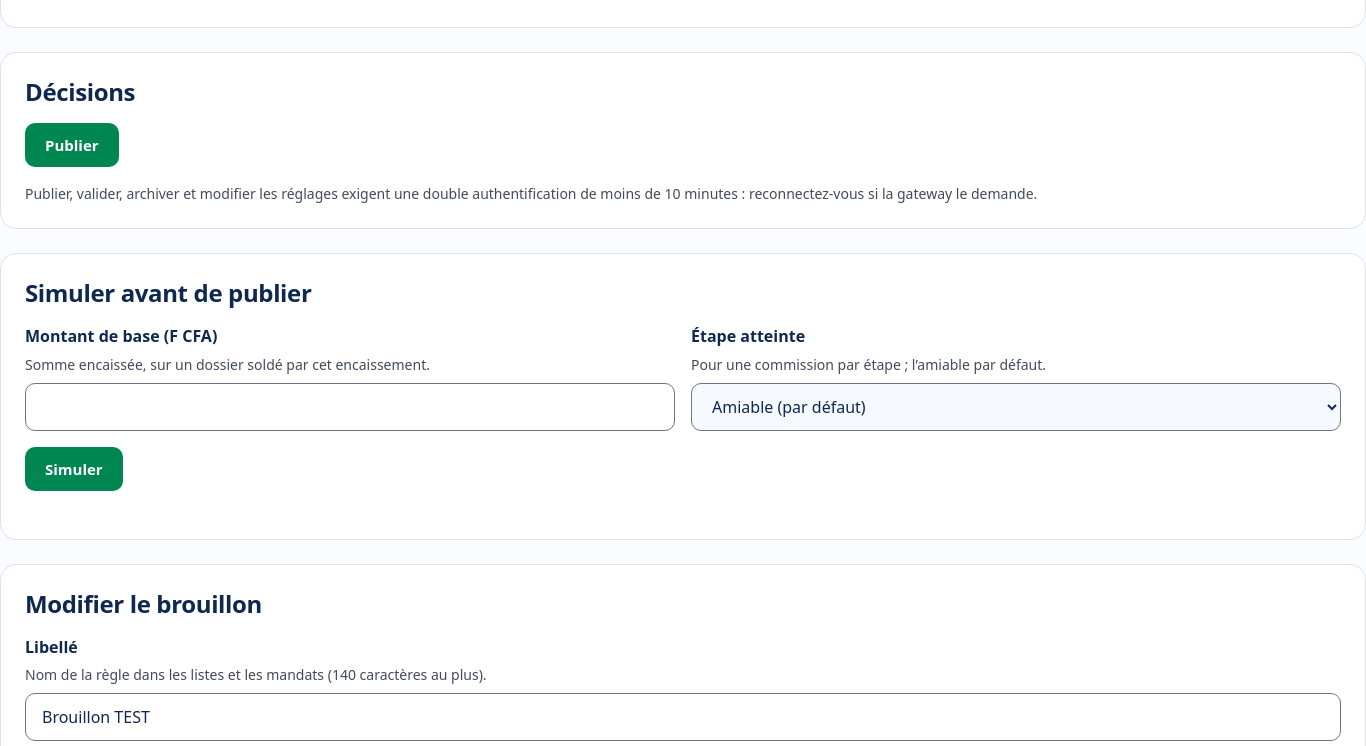
Test: cycle d’une règle › brouillon : simulation avant publication, puis publication confirmée
(page scrolled)
In the field labelled "Montant de base (F CFA)": (350, 406) x1=25 y1=382 x2=675 y2=430, type "1100000"
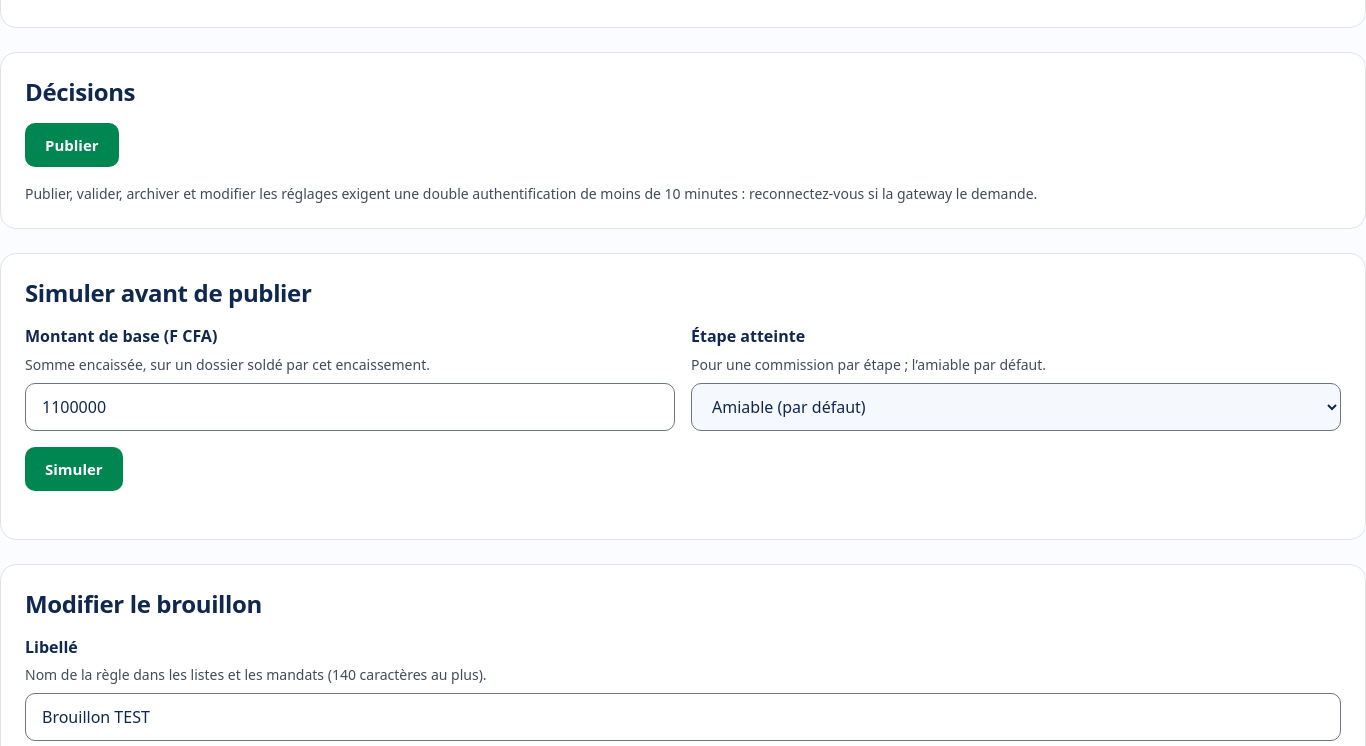
Select "Mise en demeure" in the dropdown labelled "Étape atteinte": (1016, 406) x1=691 y1=382 x2=1341 y2=430
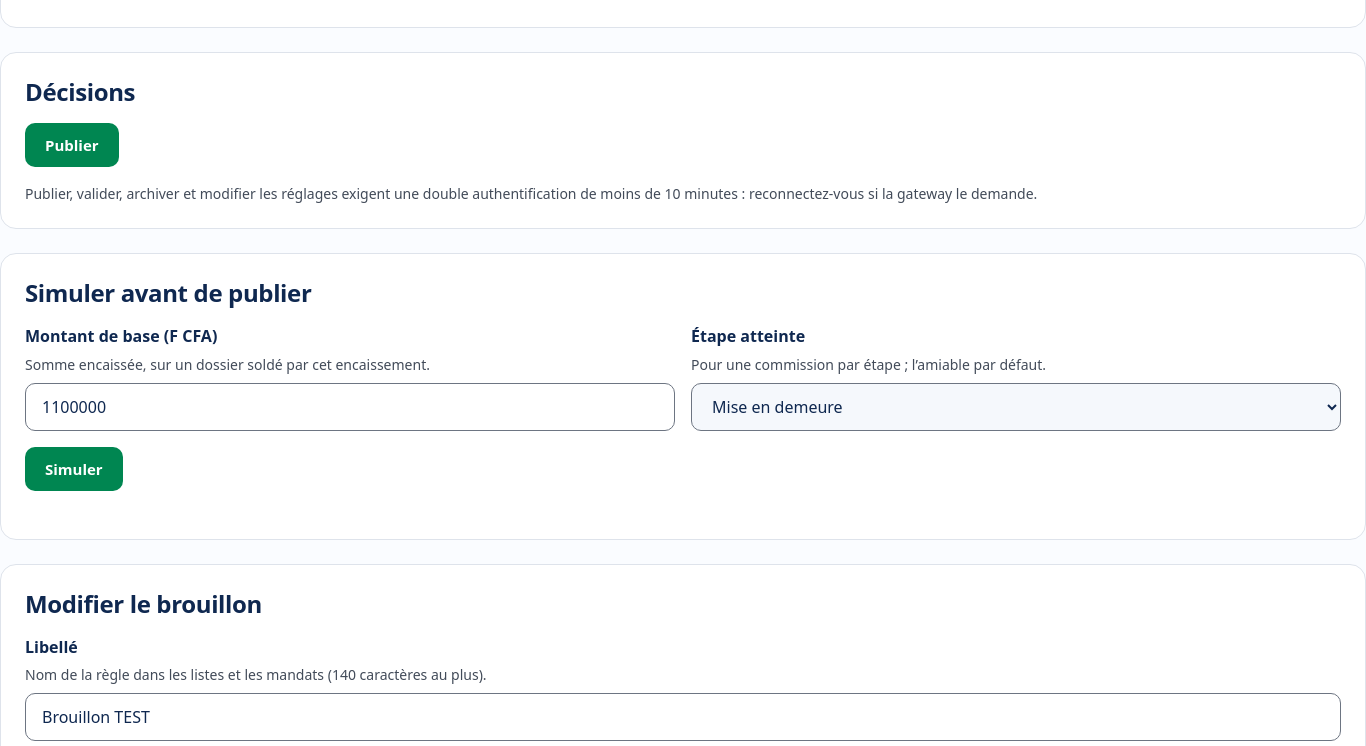
Click the button "Simuler": (74, 468) x1=25 y1=446 x2=123 y2=490
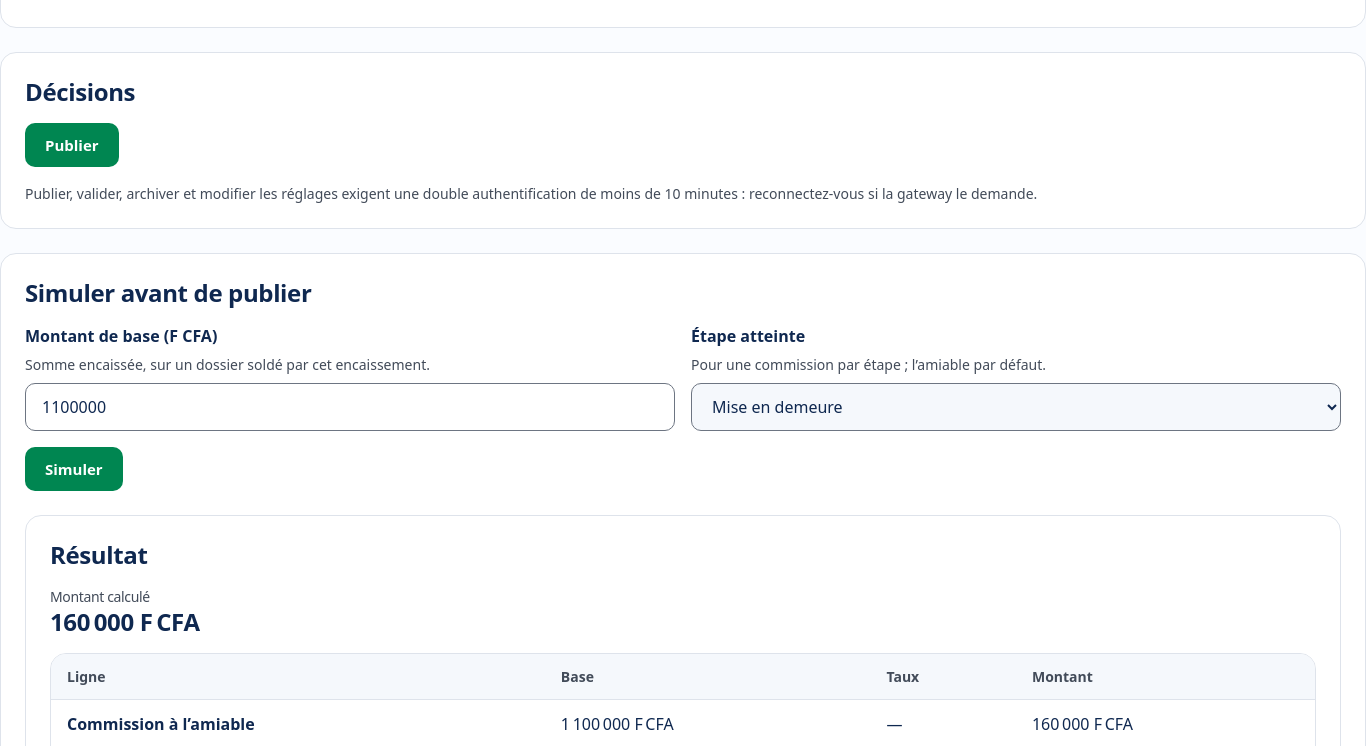
Click the button "Publier": (72, 145) x1=25 y1=123 x2=119 y2=167
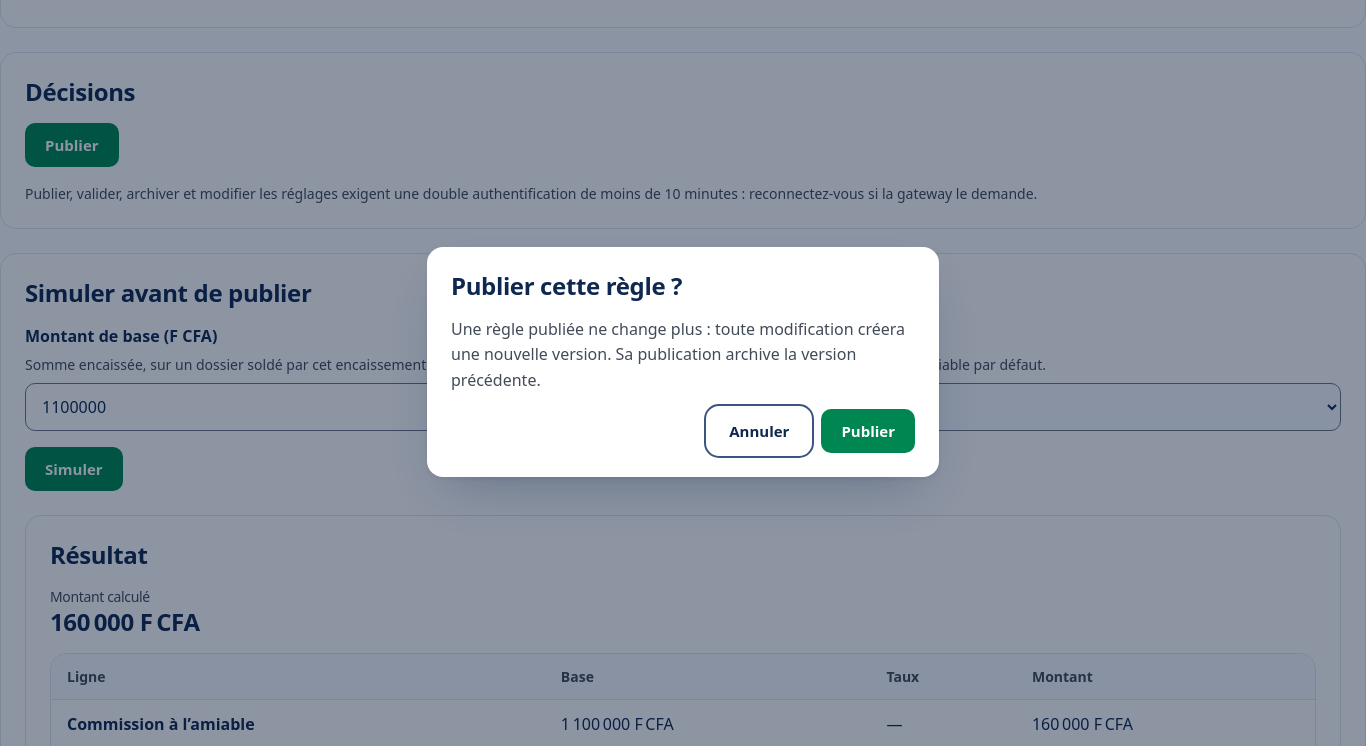
Click the button "Publier" below "Publier cette règle ?": (868, 431) x1=821 y1=409 x2=915 y2=453
(page scrolled)
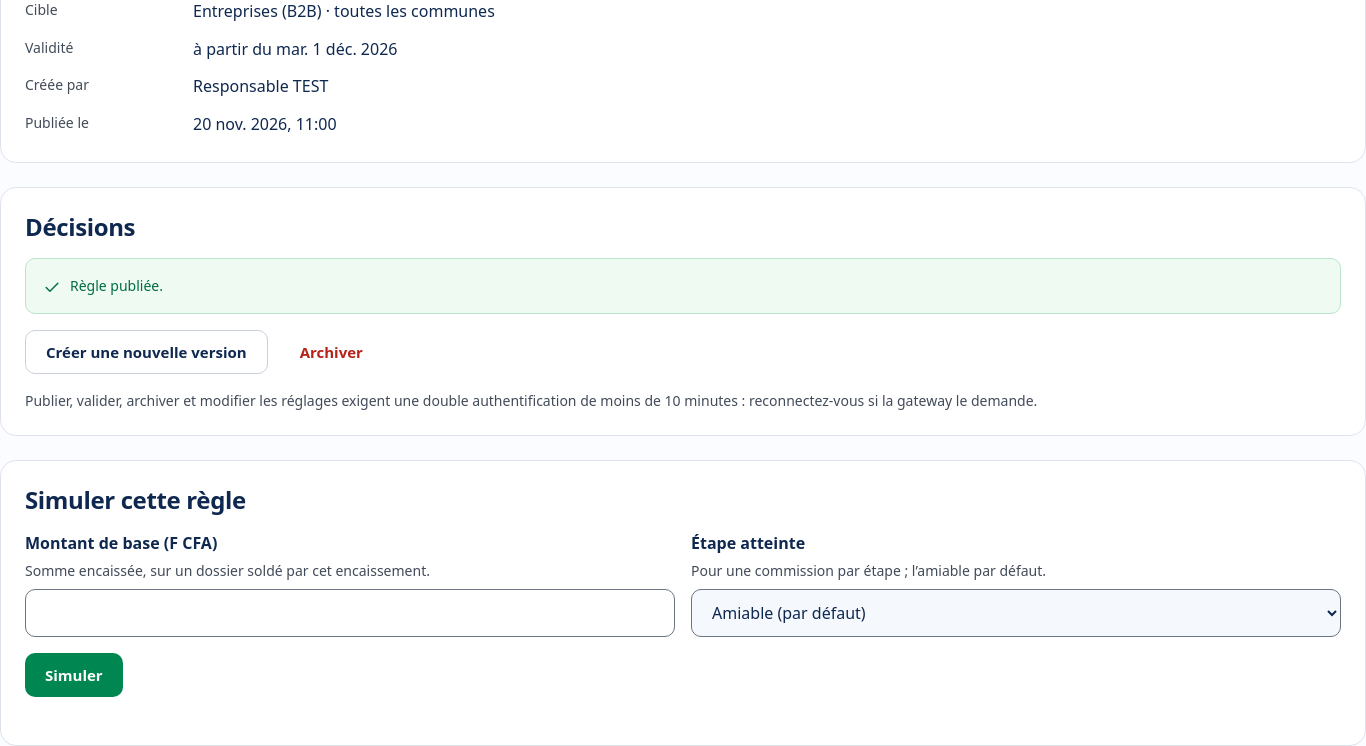
expect the heading "Modifier le brouillon" is not shown: met
expect the text "Règle publiée." is shown: met, box x1=70 y1=274 x2=163 y2=296
